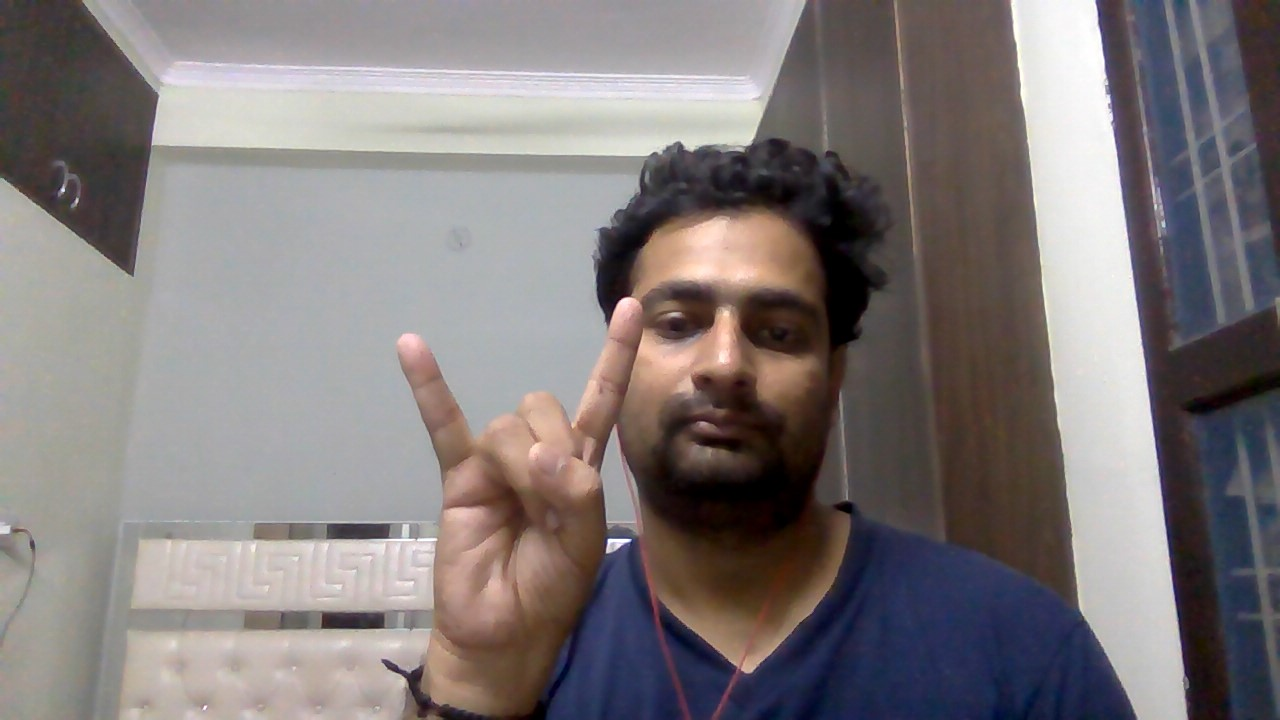Select All: (385, 287, 670, 659)
